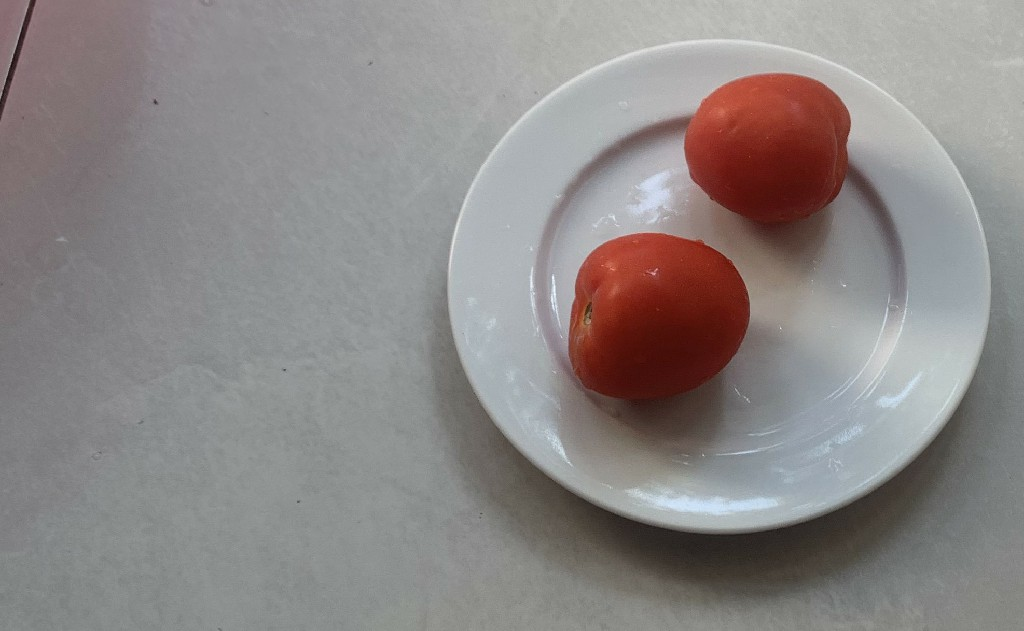OK: (562, 230, 752, 406), (681, 70, 852, 222)
